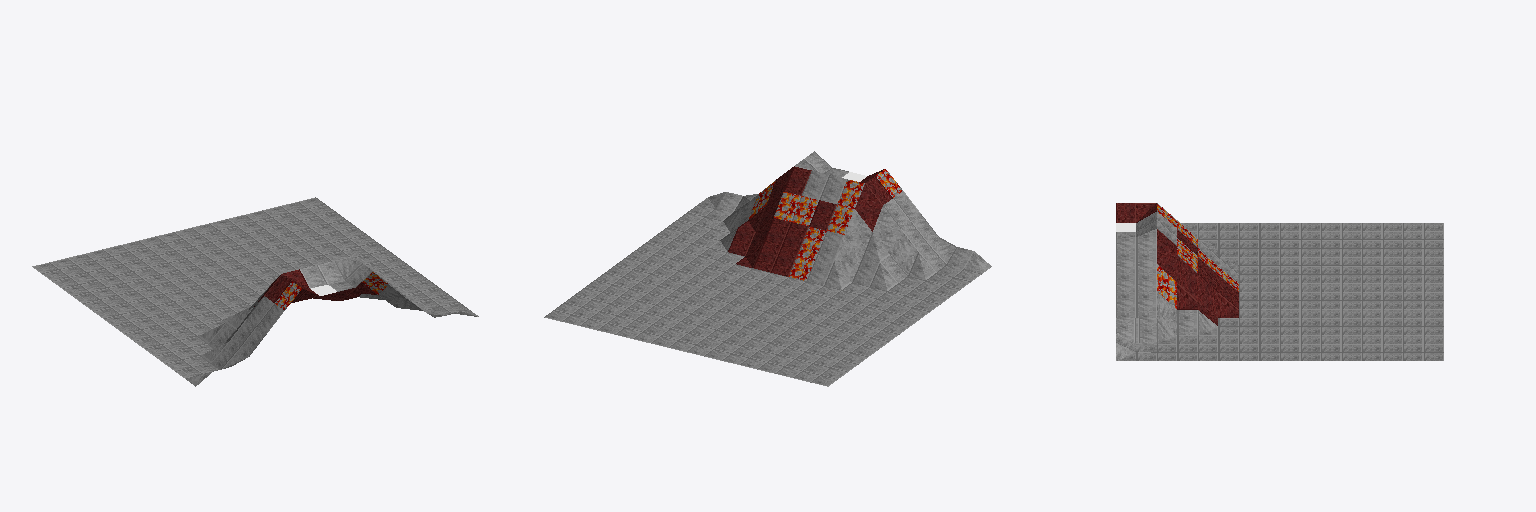
3 views of the same model, side by side, from view 1: azimuth 30°, elevation 25°; view 2: azimuth 150°, elevation 25°; view 3: azimuth 270°, elevation 25° (orthographic).
Parts seen in each view (by area): view 1: sideRock_1; view 2: sideRock_1; view 3: sideRock_1.
Boxes of the visible parts, box(x1,y1,x2,y2) form: sideRock_1: box(32, 197, 478, 386); sideRock_1: box(544, 151, 991, 386); sideRock_1: box(1116, 203, 1443, 360).
Size of the model in its own units: 16 by 3.88 by 16.
Materials: 9 (8 with a texture image).